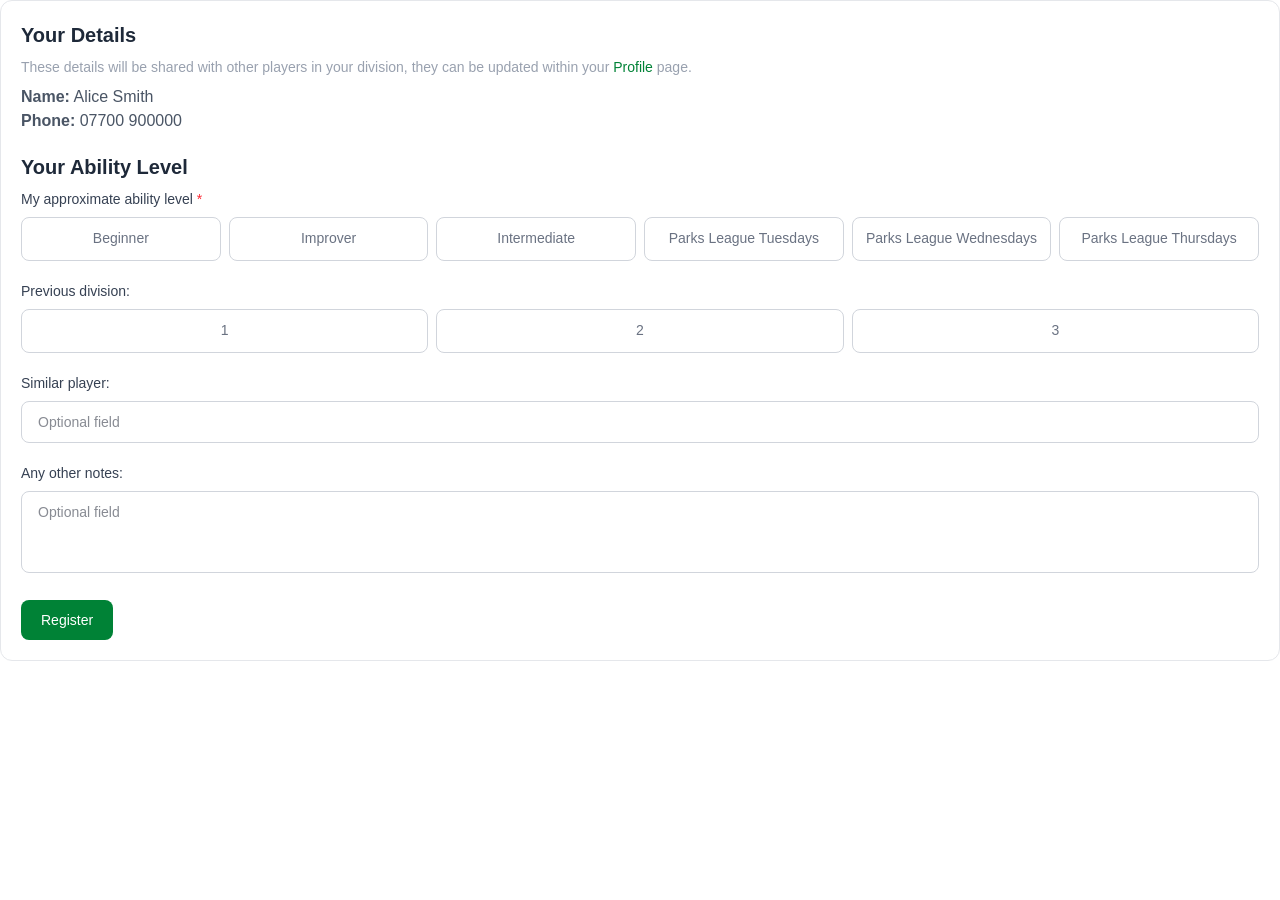
Test: RegistrationForm › shows an error message if the API returns an error
Click the button "Beginner" at (121, 239), box x1=21 y1=217 x2=221 y2=261
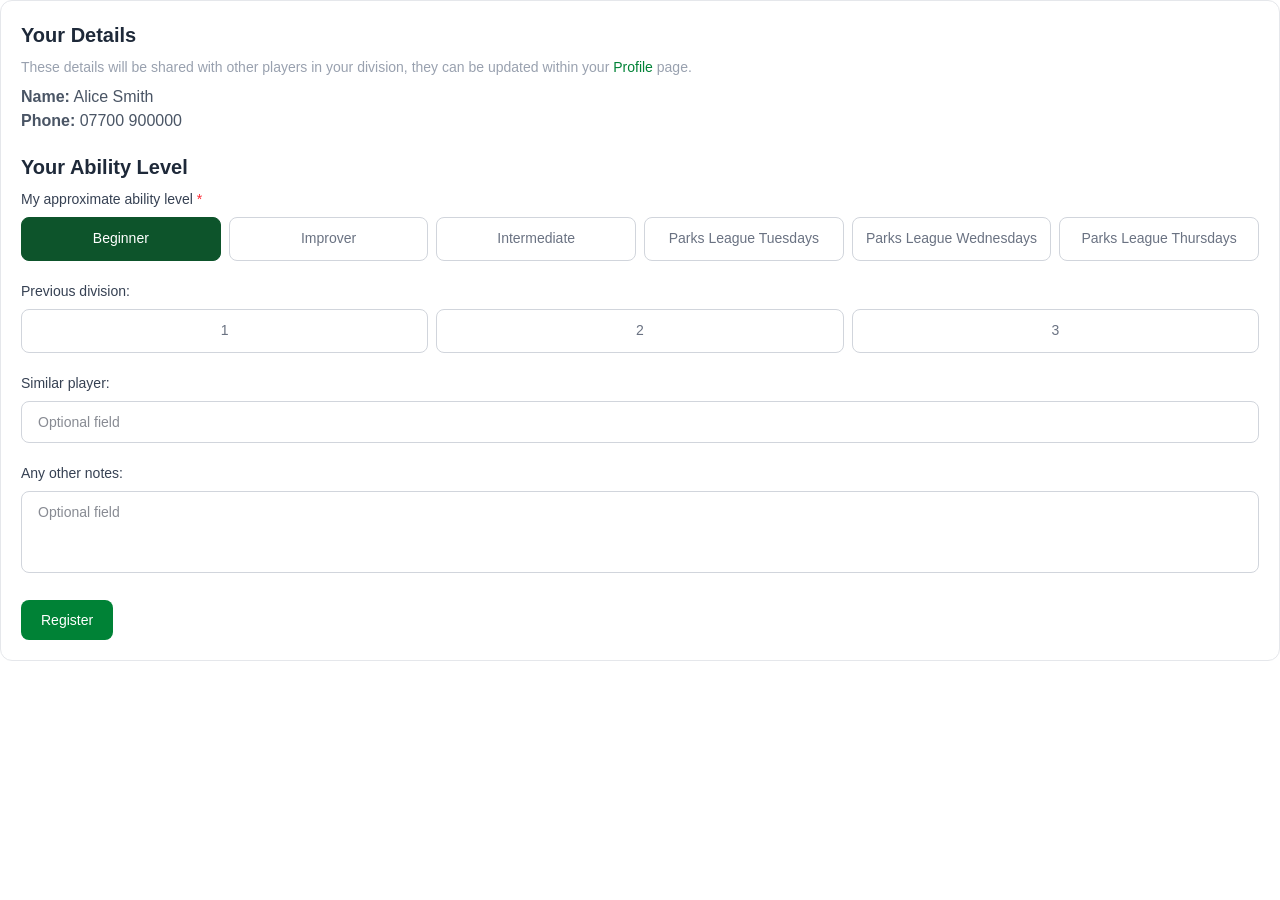
Click the button "Register" at (67, 620), box x1=21 y1=600 x2=113 y2=640
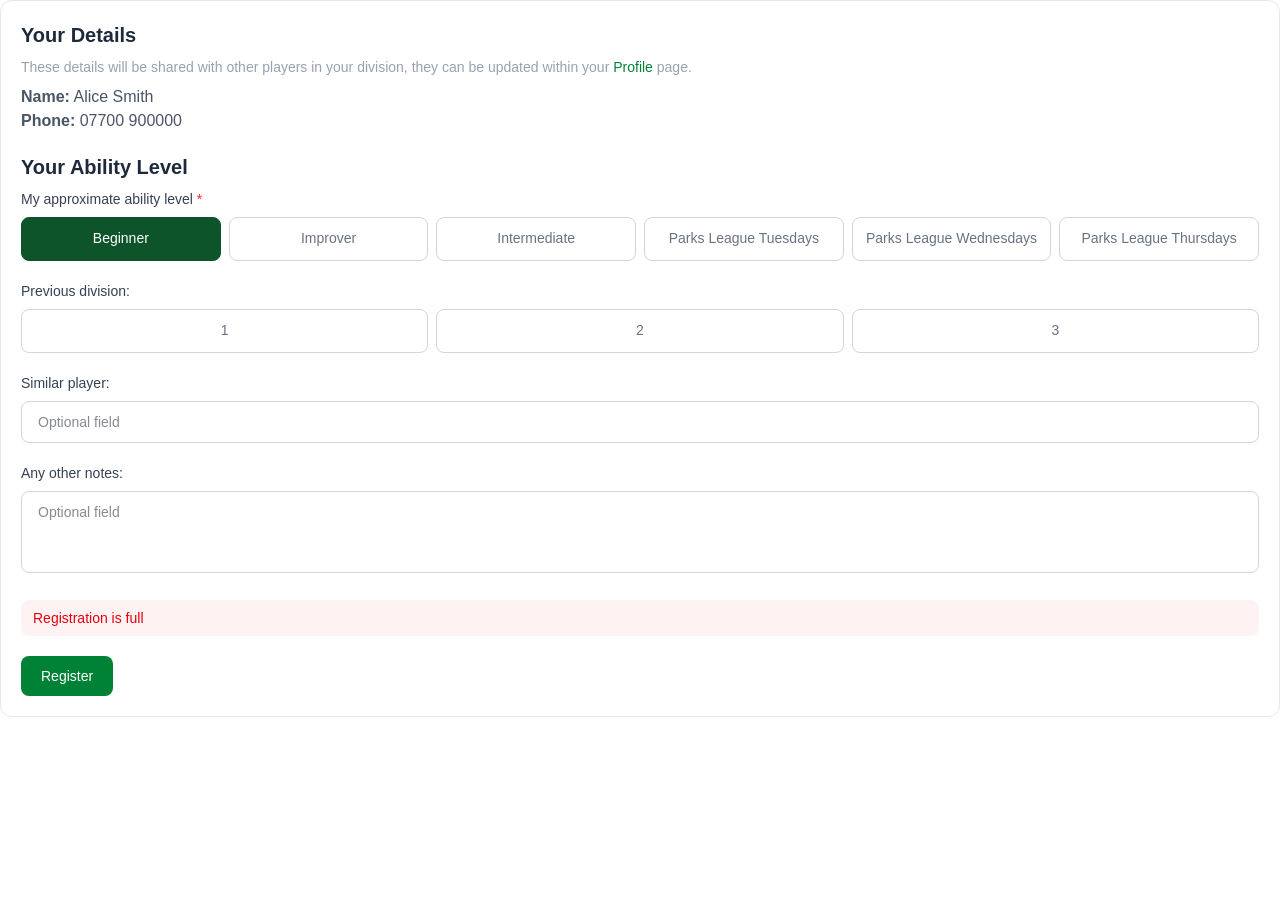
Expected: the text "Registration is full" is shown, x1=21 y1=600 x2=1259 y2=636
